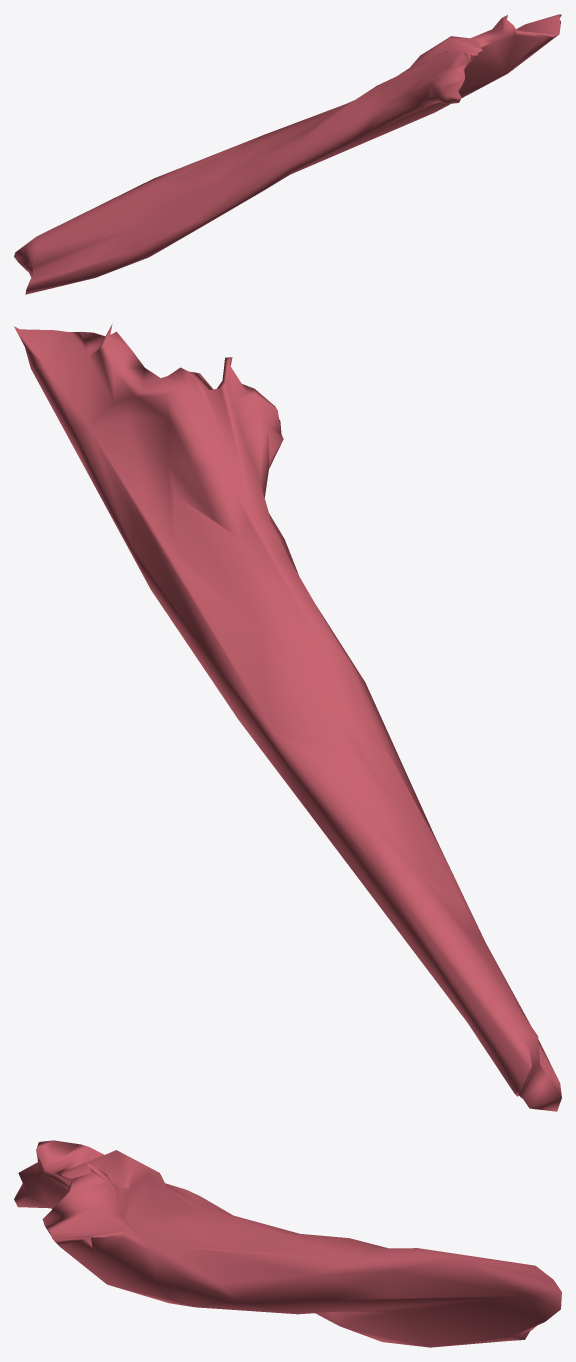
3 views of the same model, one above another, from view 1: azimuth 30°, elevation 25°; view 2: azimuth 150°, elevation 25°; view 3: azimuth 270°, elevation 25° (orthographic). The views are drawn at different scales.
Visible parts, largest first — view 1: 右侧拇对掌肌; view 2: 右侧拇对掌肌; view 3: 右侧拇对掌肌.
Part boxes in pixels (x1,y1,x2,y2): 右侧拇对掌肌: (14, 14, 561, 294); 右侧拇对掌肌: (14, 324, 561, 1111); 右侧拇对掌肌: (14, 1140, 561, 1347).
Bounding box in the file's own units: 0.0682 × 0.0422 × 0.0419.
